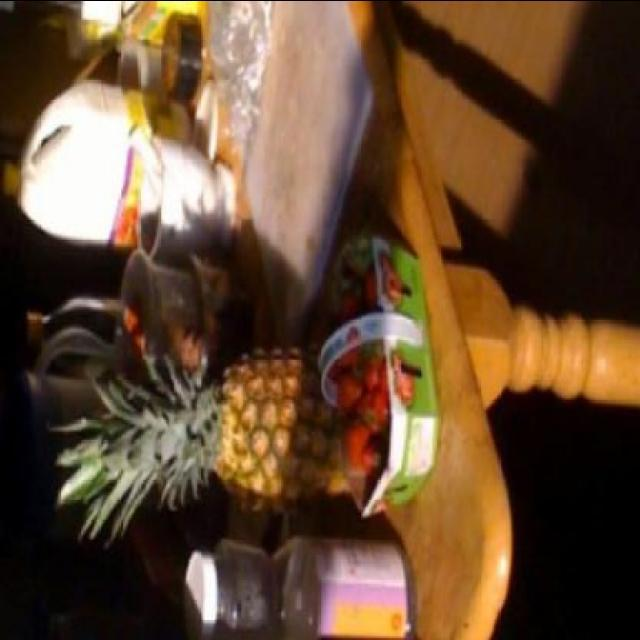Pineapple: (48, 330, 354, 544)
